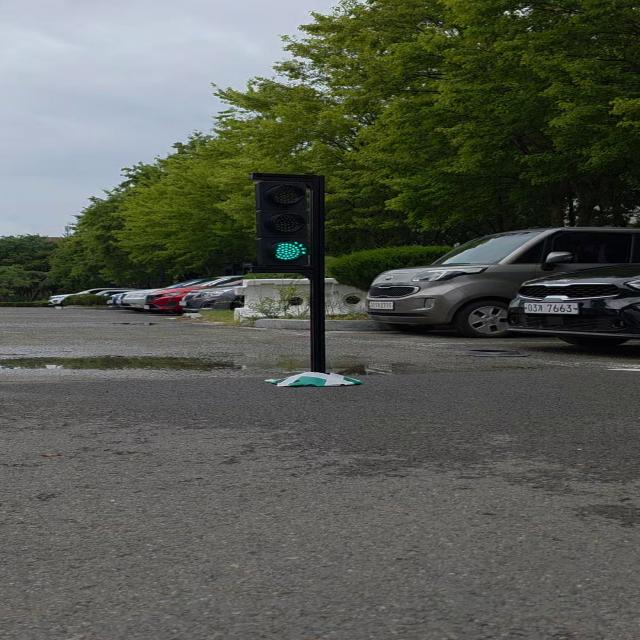green: (253, 173, 320, 272)
